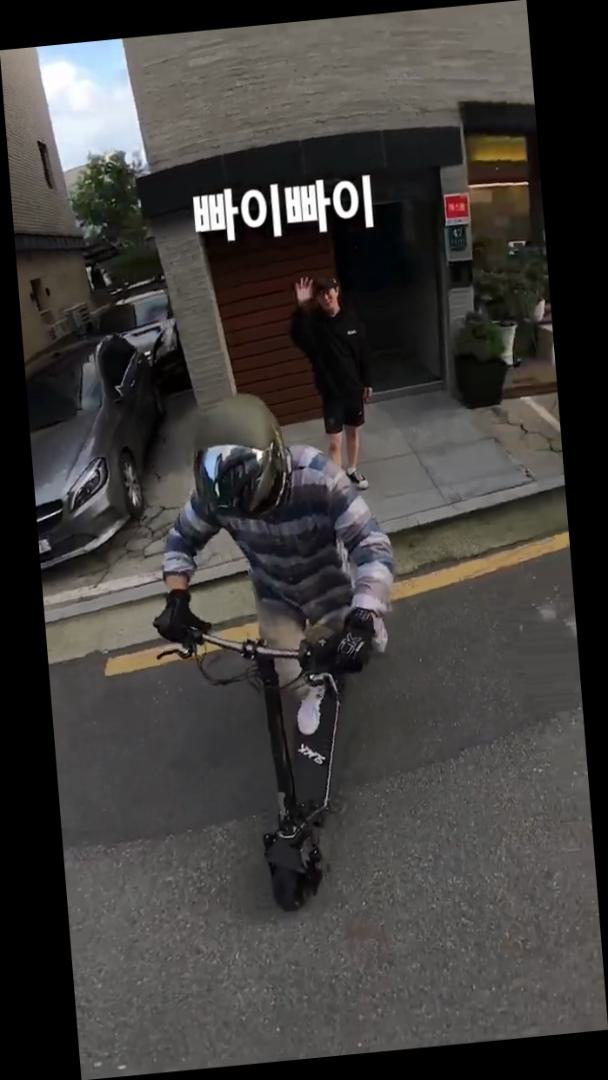helmet: (133, 376, 427, 923)
